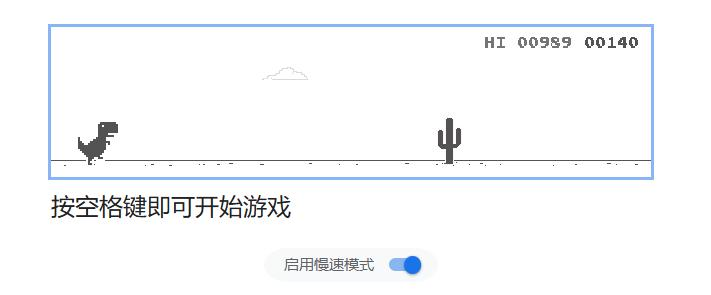cactus: (437, 117, 463, 166)
dino: (75, 120, 119, 166)
